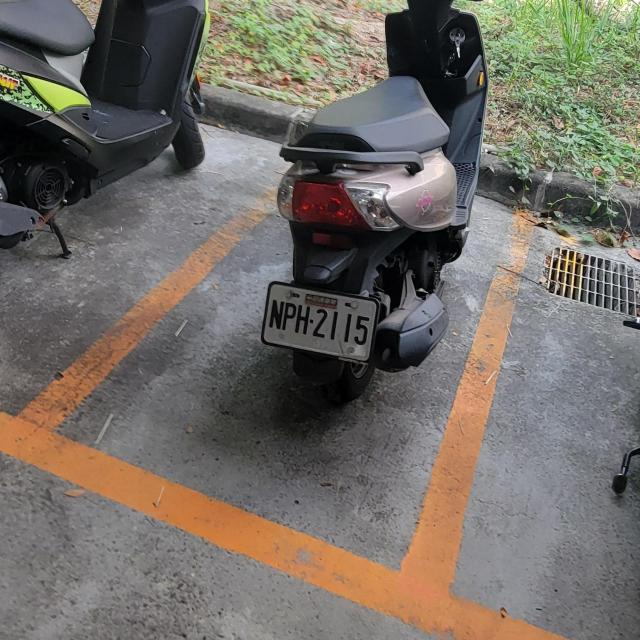W: (260, 280, 379, 362)
